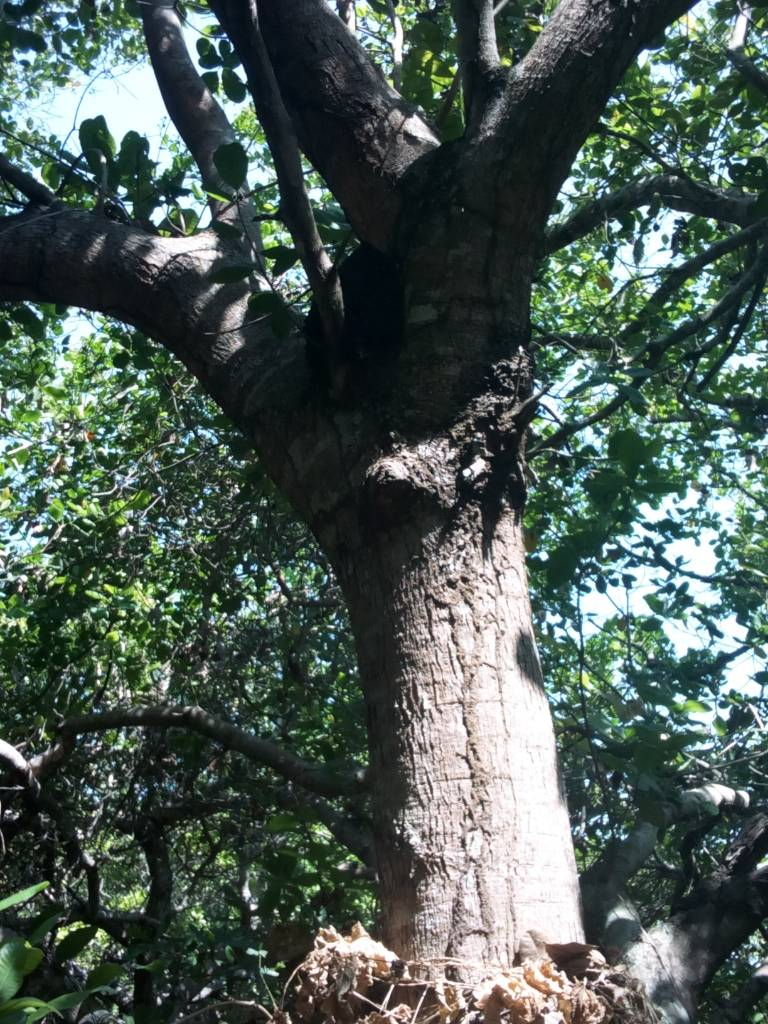Termites: (418, 477, 527, 960), (472, 335, 536, 464)
